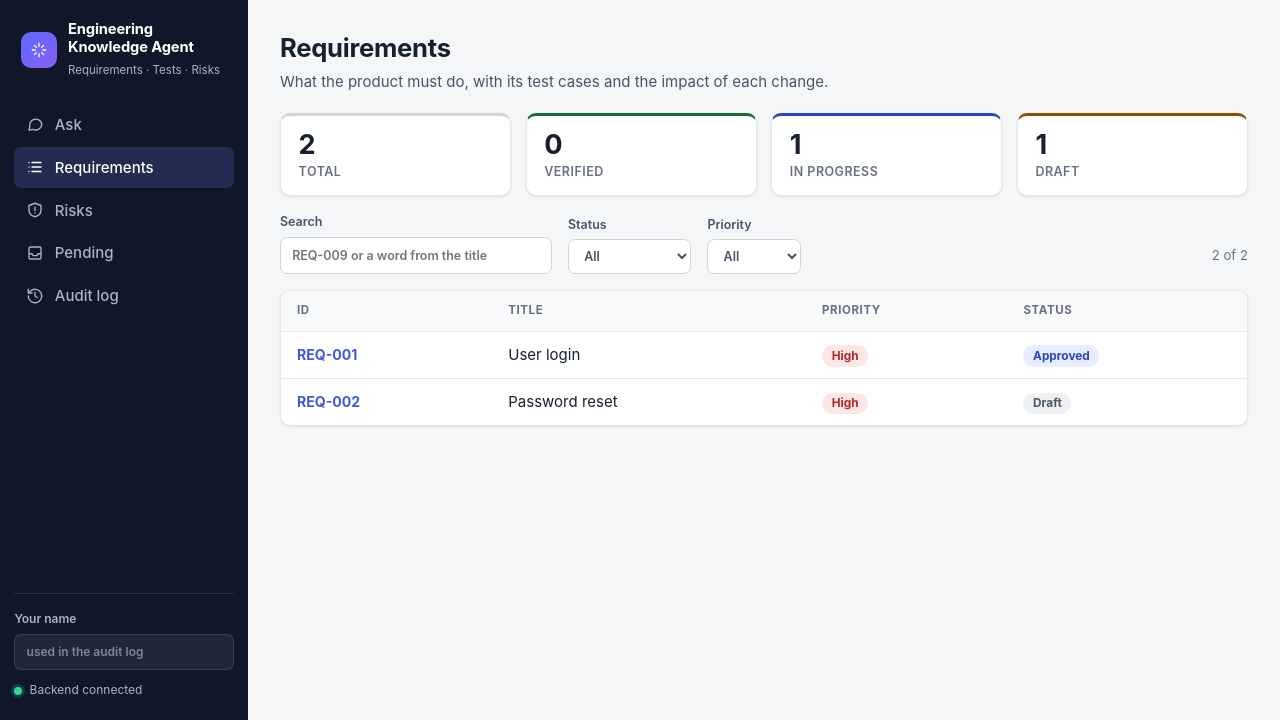
Scenario: requirements page › shows a message instead of an impact card when there is none yet
This screenshot has width=1280, height=720.
Click the button "REQ-001". click: (327, 355)
box: [297,344,357,366]
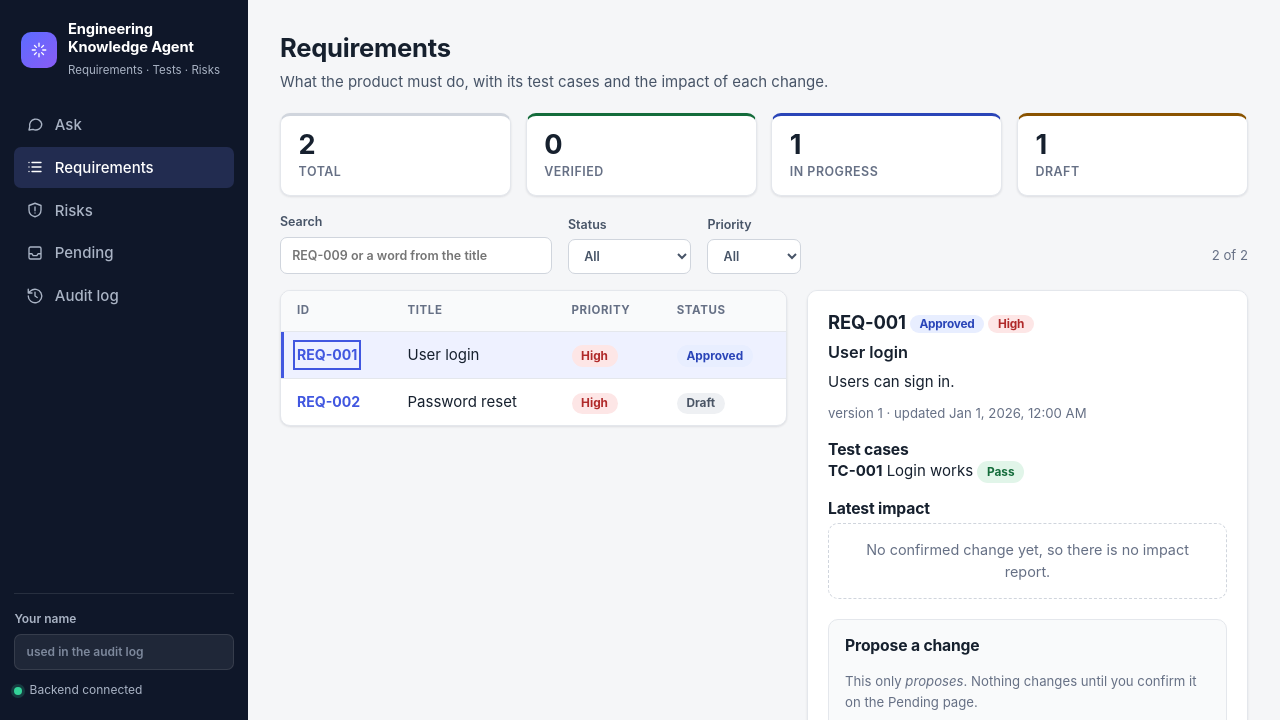
expect the text "No confirmed change yet, so there is no impact report." is shown: met, box [828,523,1227,599]
